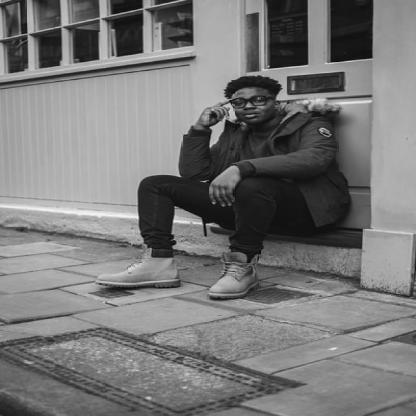ankle: (157, 263, 160, 265), (253, 270, 256, 272)
heel: (172, 283, 177, 286), (256, 287, 259, 289)
left_foot: (209, 262, 260, 300)
pinky: (230, 291, 232, 293), (101, 277, 104, 278)
right_foot: (96, 250, 181, 289)
toe: (110, 279, 114, 281), (213, 290, 217, 292)
